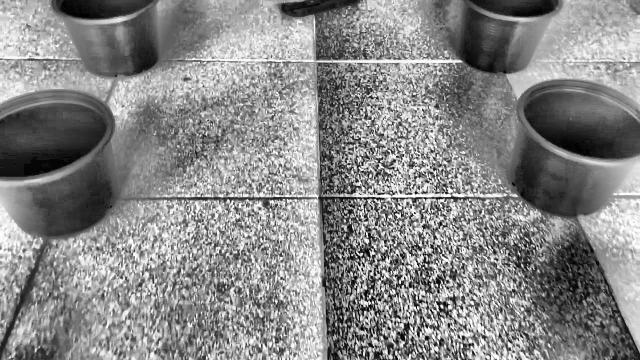pot: (0, 90, 120, 239), (513, 80, 640, 216)
